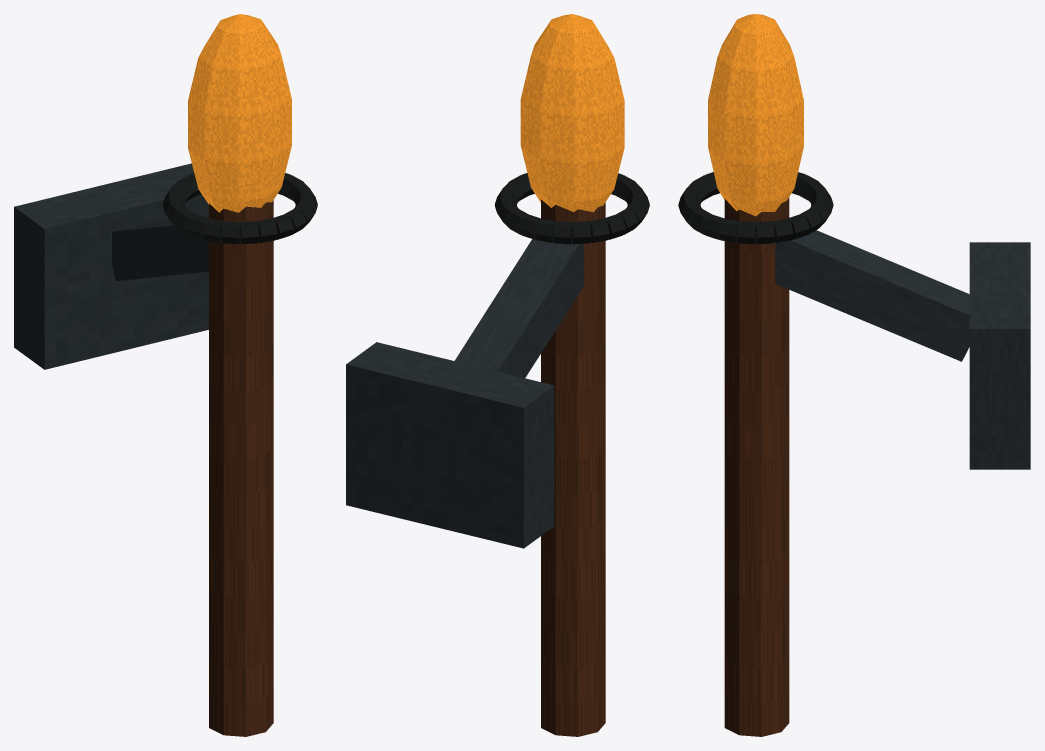
The model's file is L_wall_torch.gltf.
3 renders of one model, left to right at view 1: azimuth 30°, elevation 25°; view 2: azimuth 150°, elevation 25°; view 3: azimuth 270°, elevation 25°, orthographic.
Parts seen in each view (by area): view 1: root; view 2: root; view 3: root.
Boxes of the visible parts, <box> form: root: <box>14,14,317,736</box>; root: <box>346,14,649,736</box>; root: <box>678,14,1030,736</box>.
Bounding box in the file's own units: 0.37 × 1.41 × 0.6348.
Materials: 4 (4 with a texture image).
